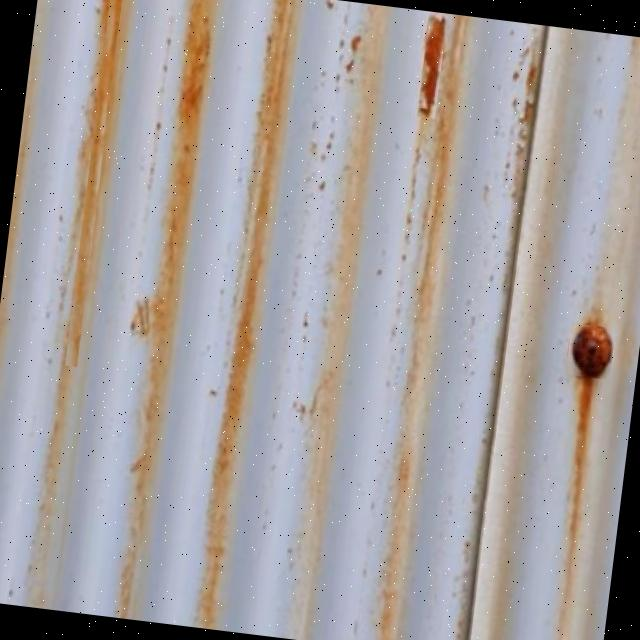Corrosion: (0, 0, 640, 640), (567, 317, 615, 378)
